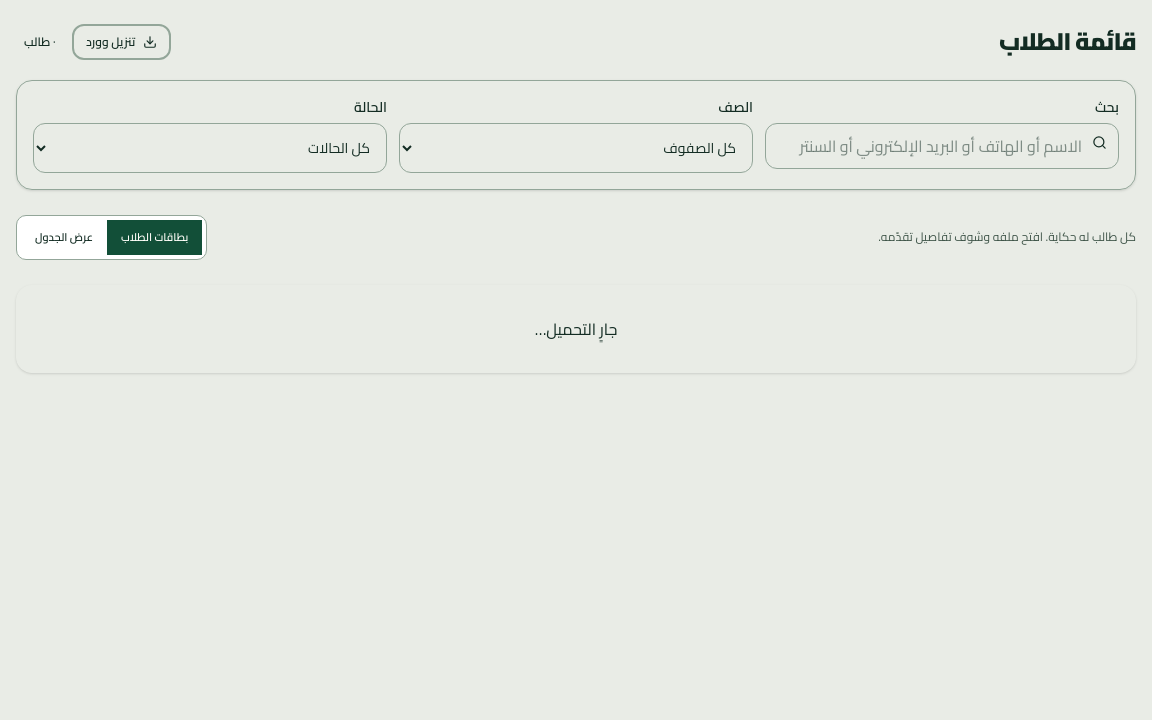
Test: student list search › does not replace a newer status result with an older response
Select "نشط" in the dropdown labelled "الحالة": (210, 148) [33,123,387,173]
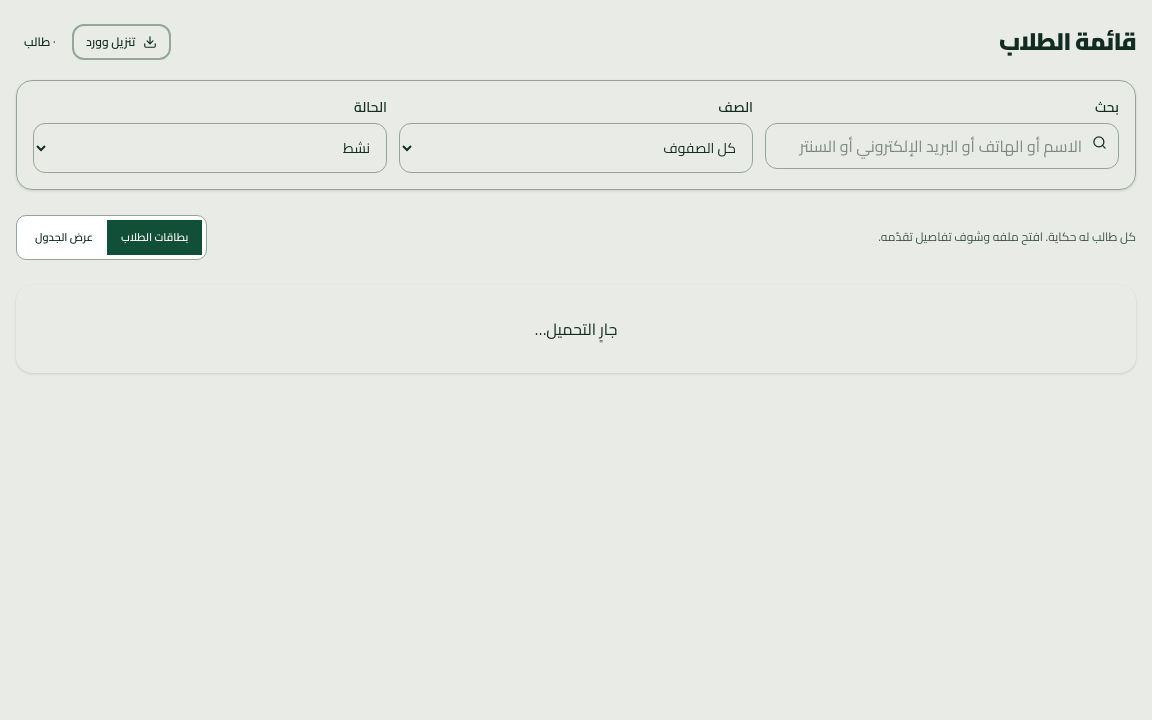
Select "مؤرشف" in the dropdown labelled "الحالة": (210, 148) [33,123,387,173]
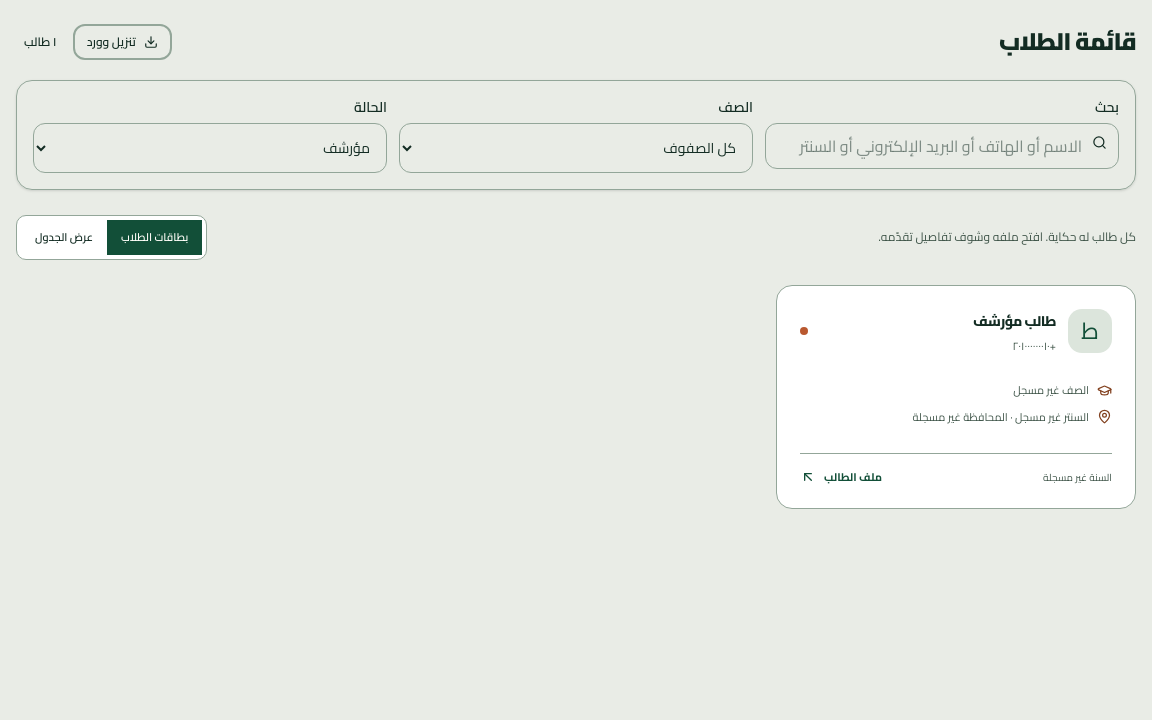
Expected: the heading "طالب مؤرشف" is shown, [973,308,1056,334]
